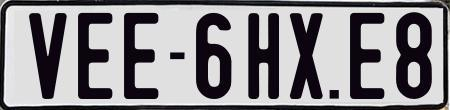6: (196, 12, 231, 103)
8: (393, 10, 433, 101)
E: (78, 12, 118, 102), (349, 11, 384, 99), (124, 10, 158, 97)
H: (247, 11, 279, 97)
V: (27, 12, 70, 102)
X: (290, 13, 323, 104)
